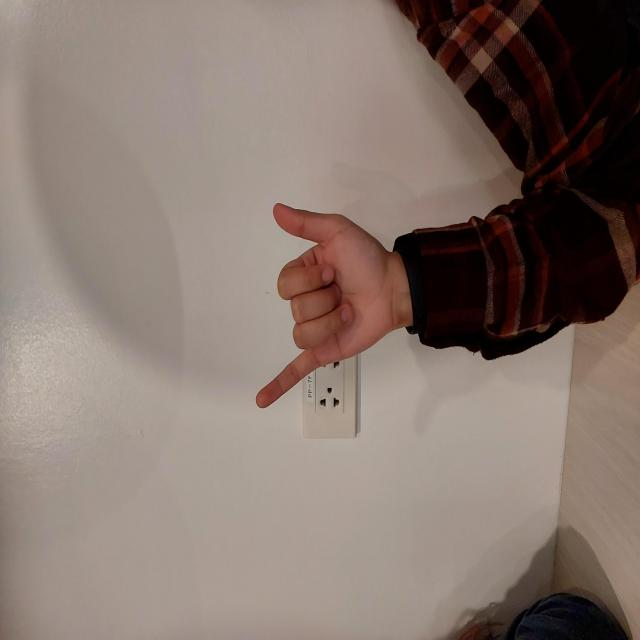Y: (228, 252, 440, 398)
